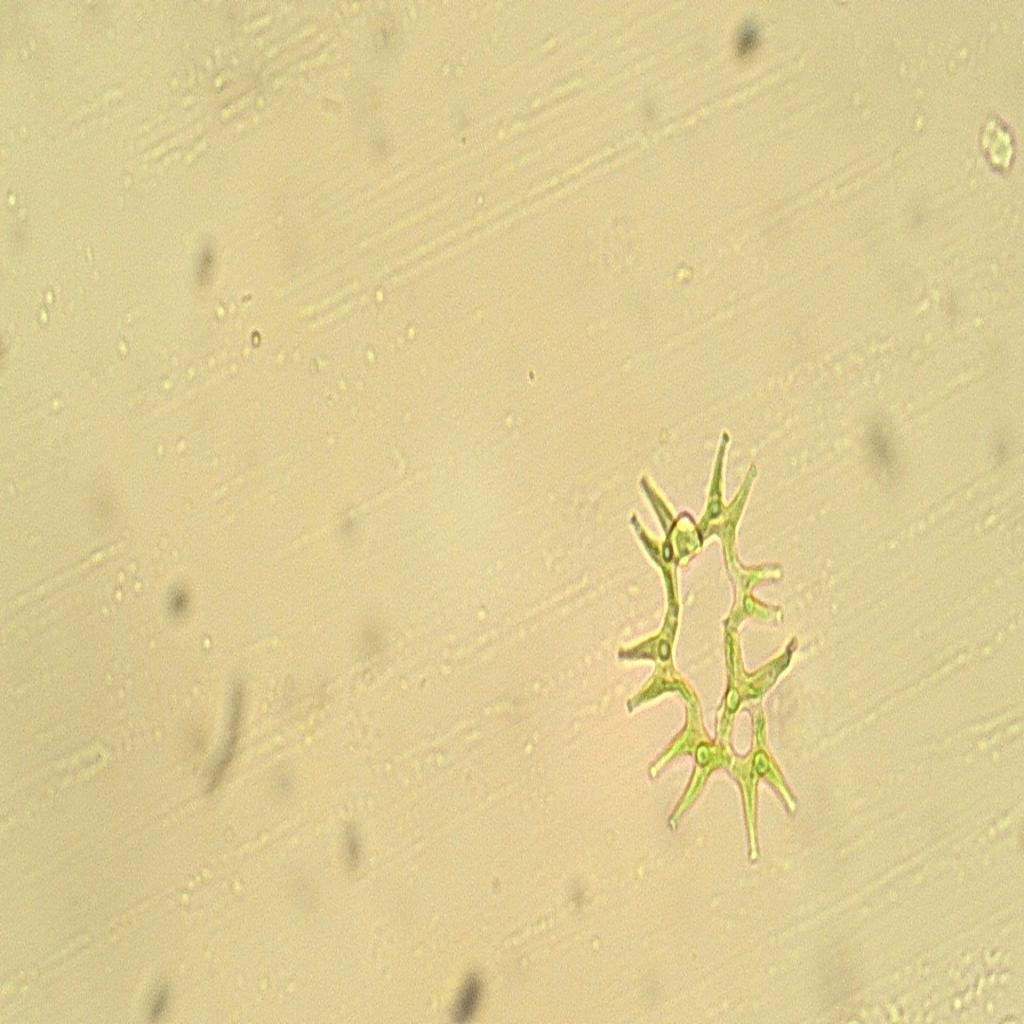Pediastrum_CFI: (615, 382, 806, 902)
